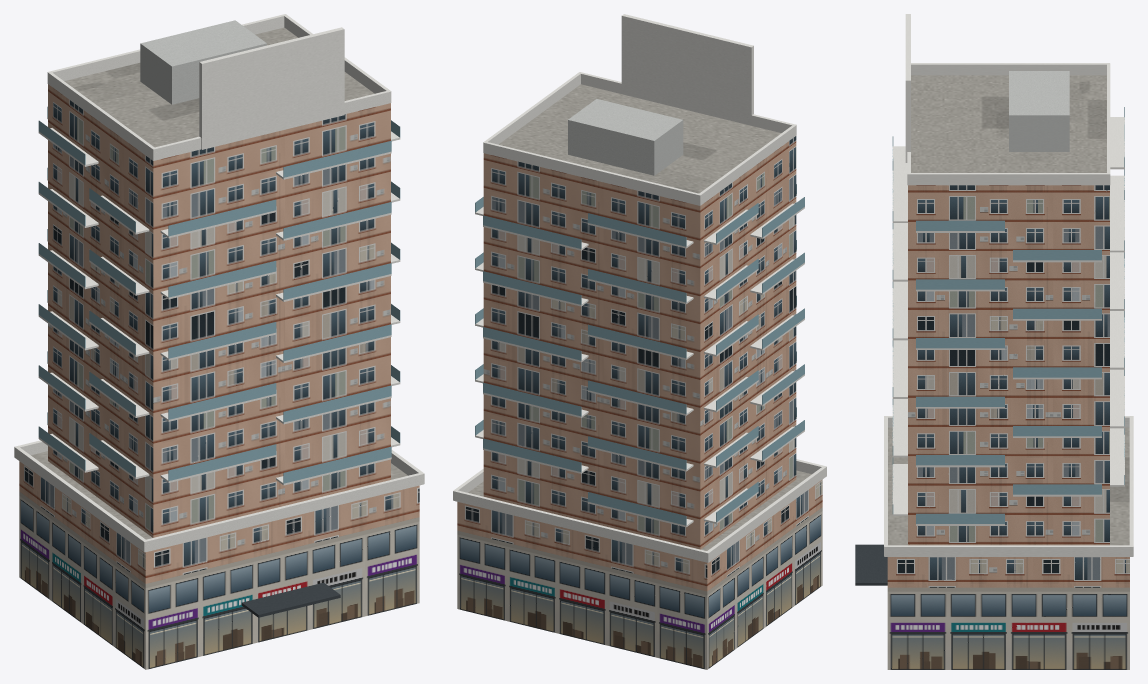
Rendered from OW_CaoOc_CH_ZigZag_52.fbx.
3 views of the same model, side by side, from view 1: azimuth 30°, elevation 25°; view 2: azimuth 150°, elevation 25°; view 3: azimuth 270°, elevation 25° (orthographic). The views are drawn at different scales.
Visible parts, largest first — view 1: OW_CaoOc_CH_ZigZag_52_LOD0; view 2: OW_CaoOc_CH_ZigZag_52_LOD0; view 3: OW_CaoOc_CH_ZigZag_52_LOD0.
Part boxes in pixels (x1,y1,x2,y2): OW_CaoOc_CH_ZigZag_52_LOD0: [14, 14, 424, 669]; OW_CaoOc_CH_ZigZag_52_LOD0: [453, 14, 826, 669]; OW_CaoOc_CH_ZigZag_52_LOD0: [855, 14, 1133, 669].
Size of what is drawn, in the model's own units: 30.7 by 61 by 27.55.
